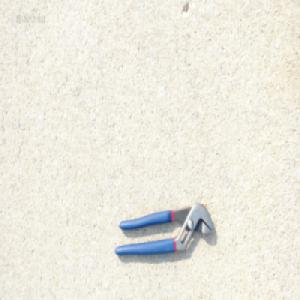Pliers: (113, 201, 216, 257)
